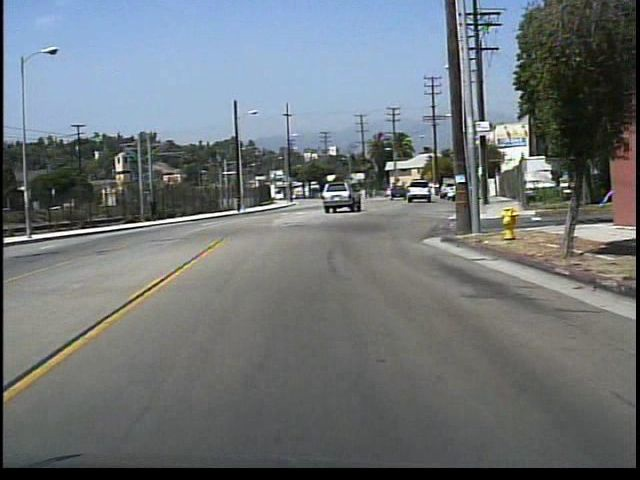person: (149, 192, 164, 223)
